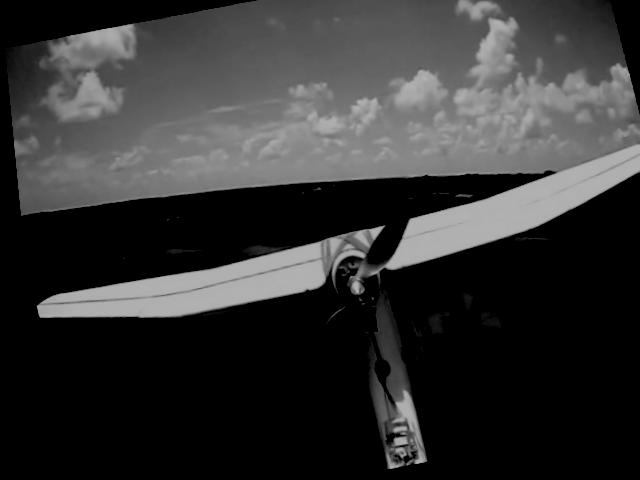hedef: (10, 114, 640, 480)
